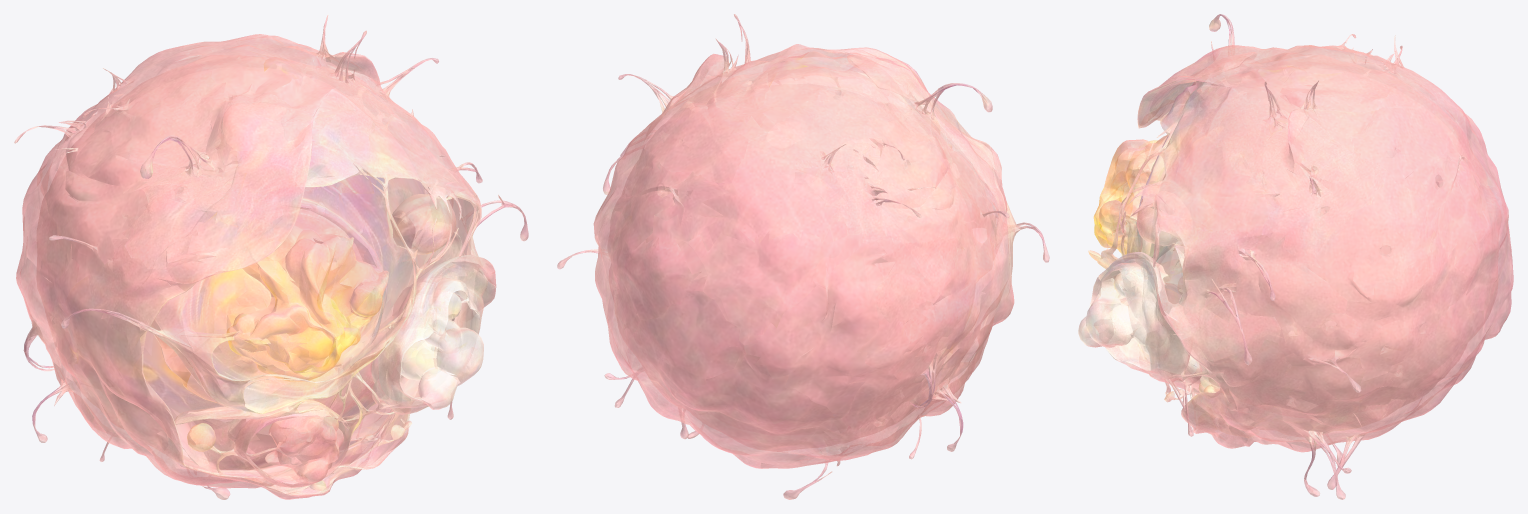
Rendered from cell06.glb.
The picture shows the model from 3 angles, left to right: view 1: azimuth 30°, elevation 25°; view 2: azimuth 150°, elevation 25°; view 3: azimuth 270°, elevation 25°; orthographic projection. The views are drawn at different scales.
Parts seen in each view (by area): view 1: Mesh_0; view 2: Mesh_0; view 3: Mesh_0.
Boxes of the visible parts, bbox=[...] form: Mesh_0: bbox=[14, 14, 528, 499]; Mesh_0: bbox=[557, 14, 1049, 499]; Mesh_0: bbox=[1078, 14, 1513, 499].
Size of the model in its own units: 1.89 by 1.8 by 1.65.
1 material, 1 textured.
